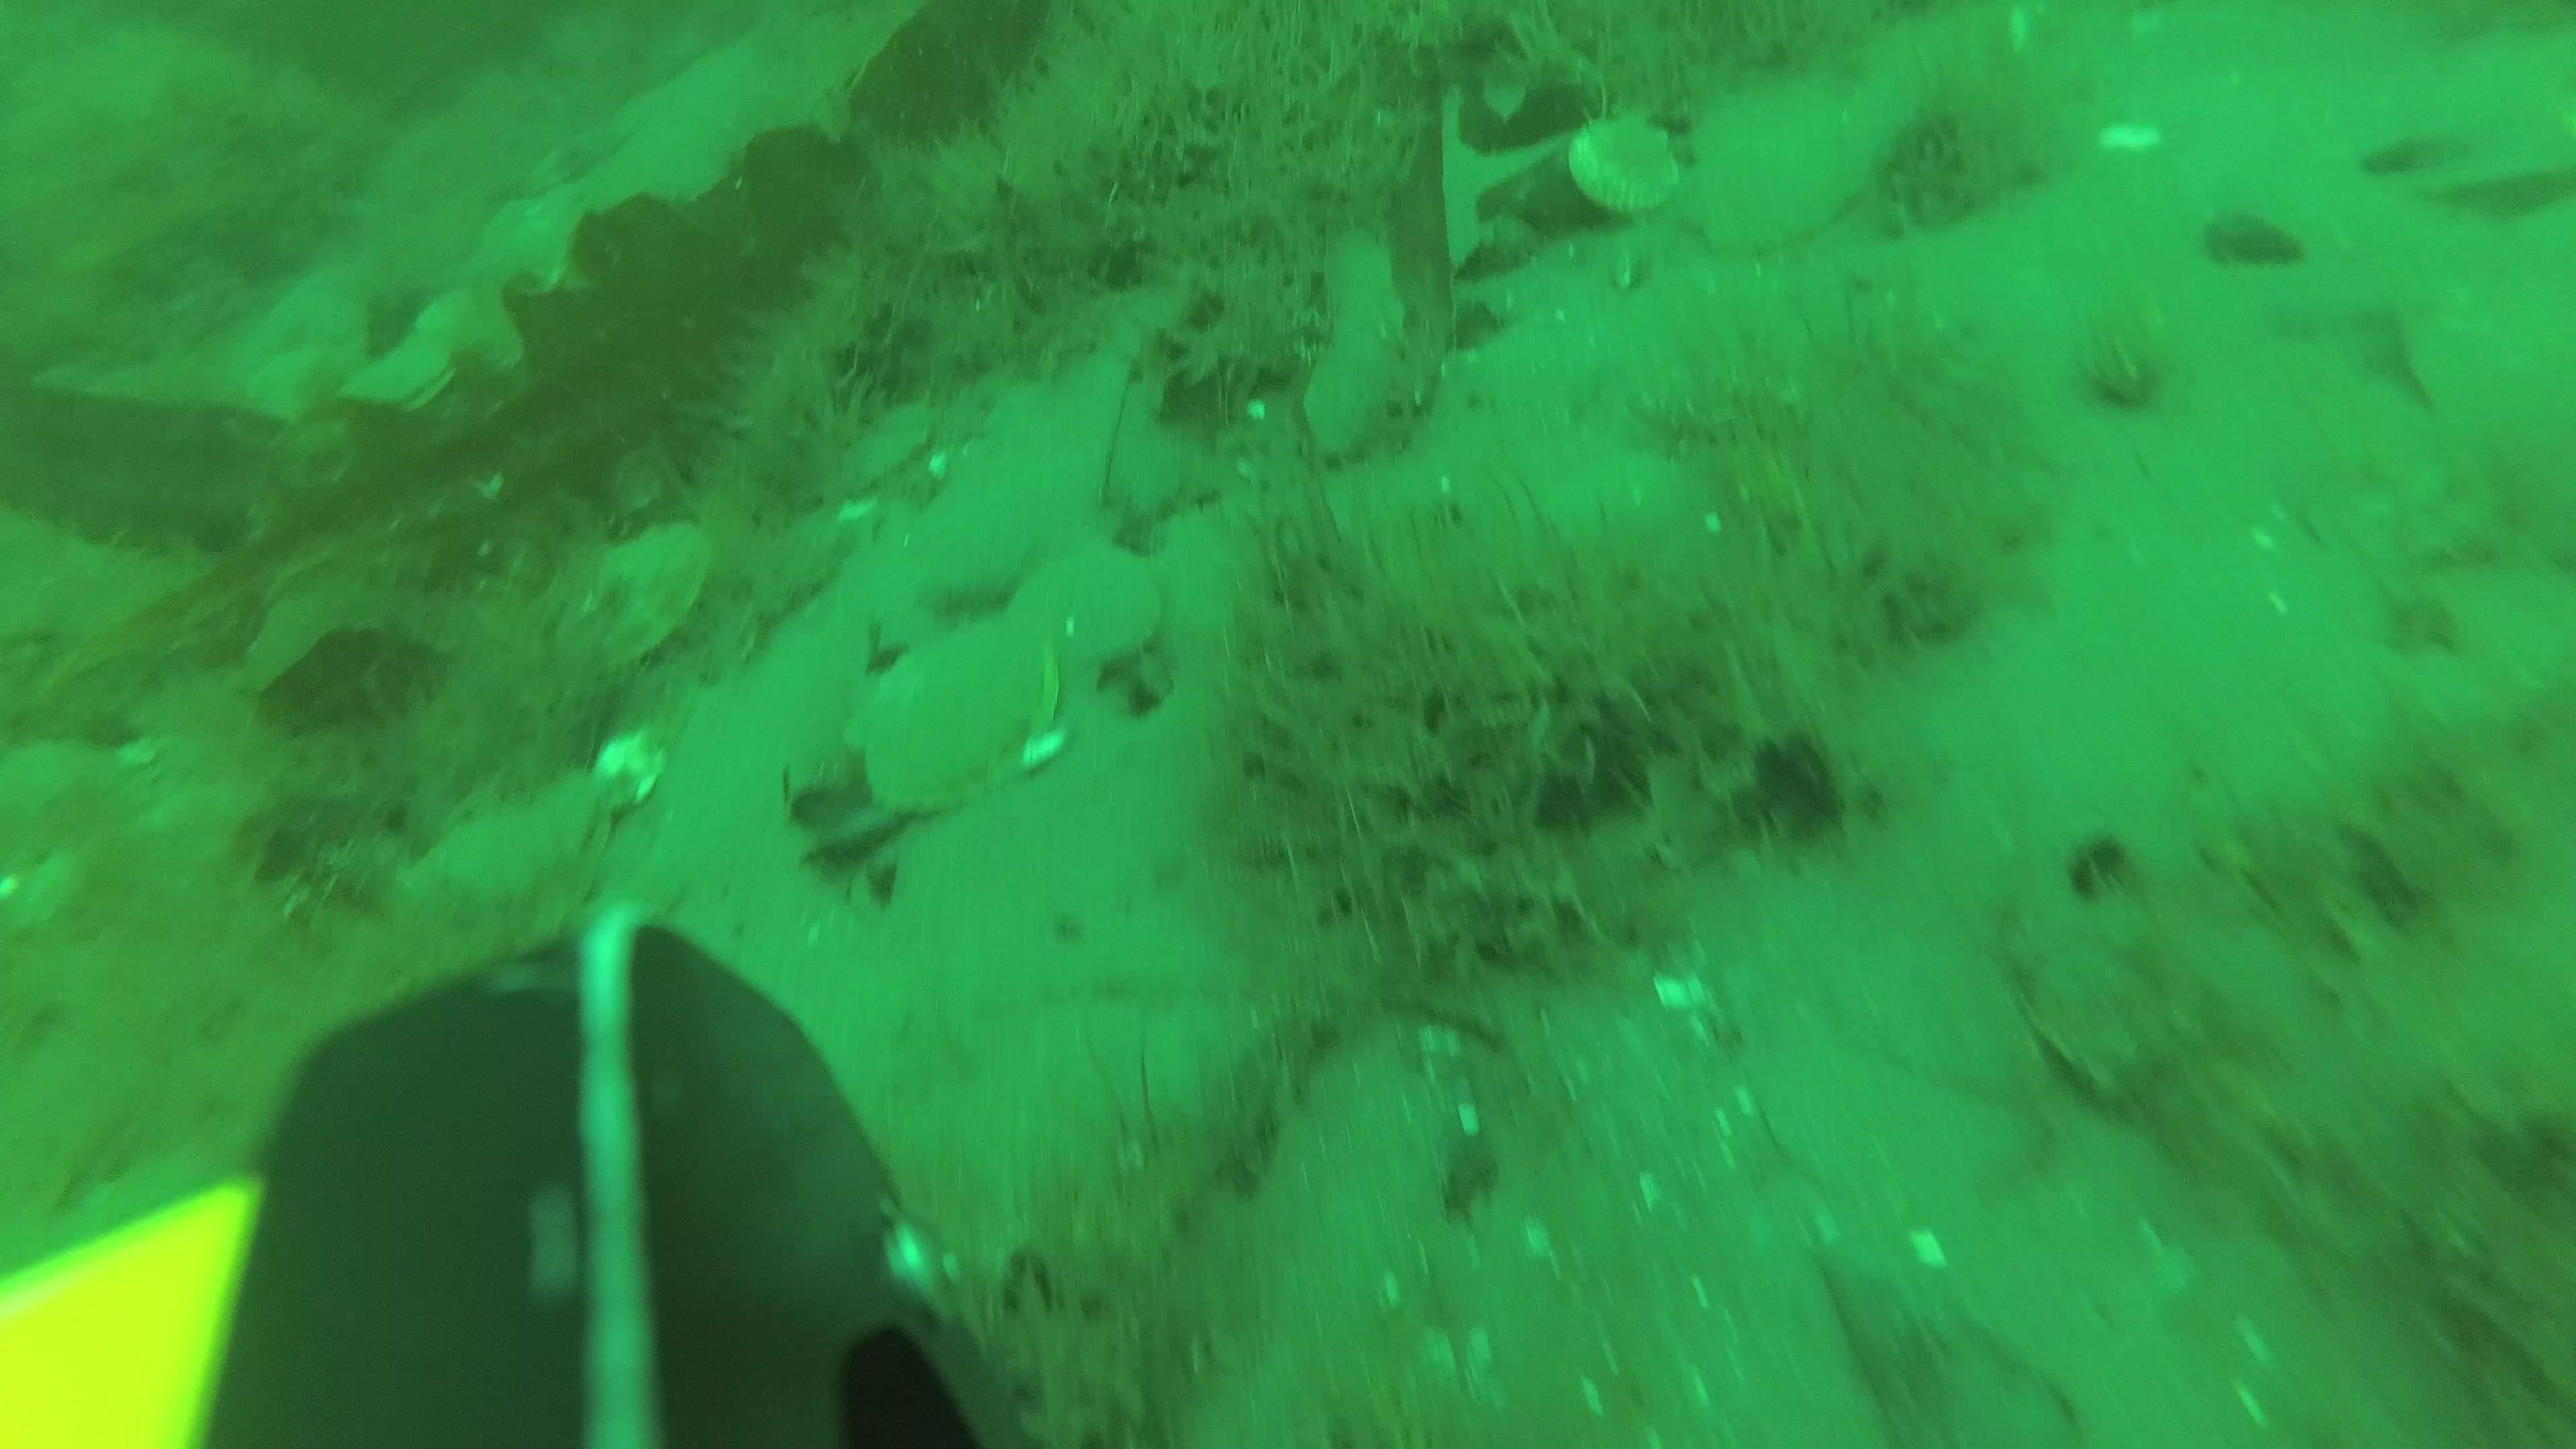scallop: (865, 621, 1067, 809), (577, 522, 713, 663), (1010, 540, 1162, 663), (1569, 113, 1684, 212), (414, 287, 522, 373), (472, 198, 561, 295), (341, 349, 458, 412)
